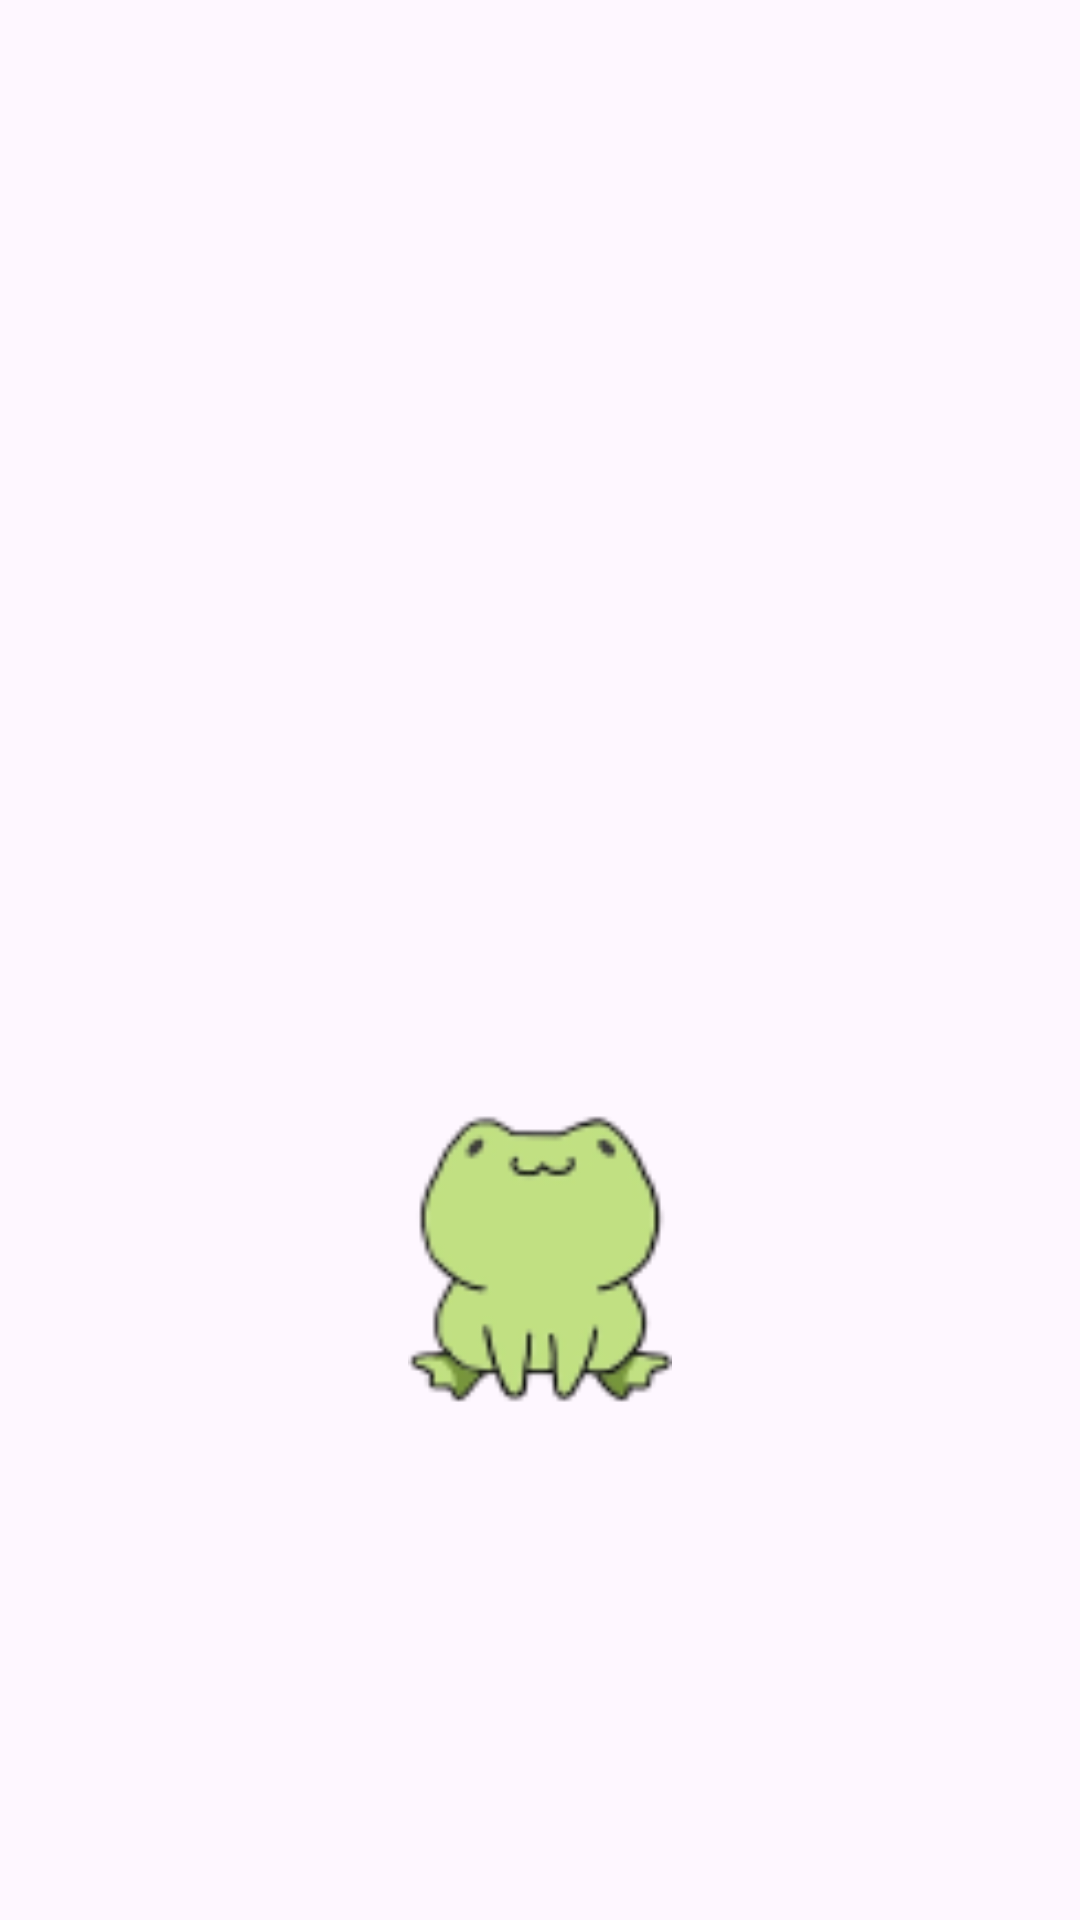

Locate icon controls on the screen. Image size 1080 x 1920, boxes as (x1, y1, x2, y2).
froggg: (408, 1116, 672, 1402)
